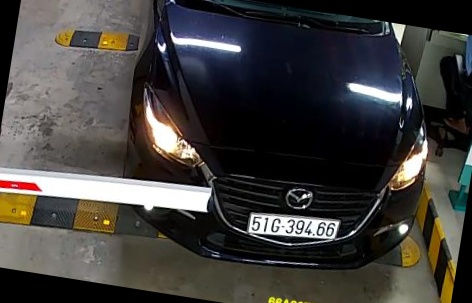plate: (242, 206, 343, 248)
